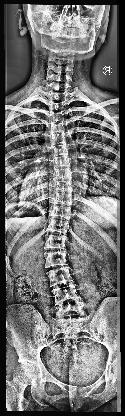Vertebrae: (53, 286, 80, 304), (46, 268, 74, 284), (42, 235, 68, 250), (46, 218, 70, 232), (44, 252, 68, 266), (53, 192, 75, 206), (50, 206, 72, 218), (52, 156, 72, 168), (54, 181, 74, 193), (48, 92, 68, 102), (48, 123, 68, 133), (49, 134, 68, 144), (48, 112, 66, 122), (52, 144, 70, 154), (54, 170, 72, 180), (48, 102, 66, 110)
